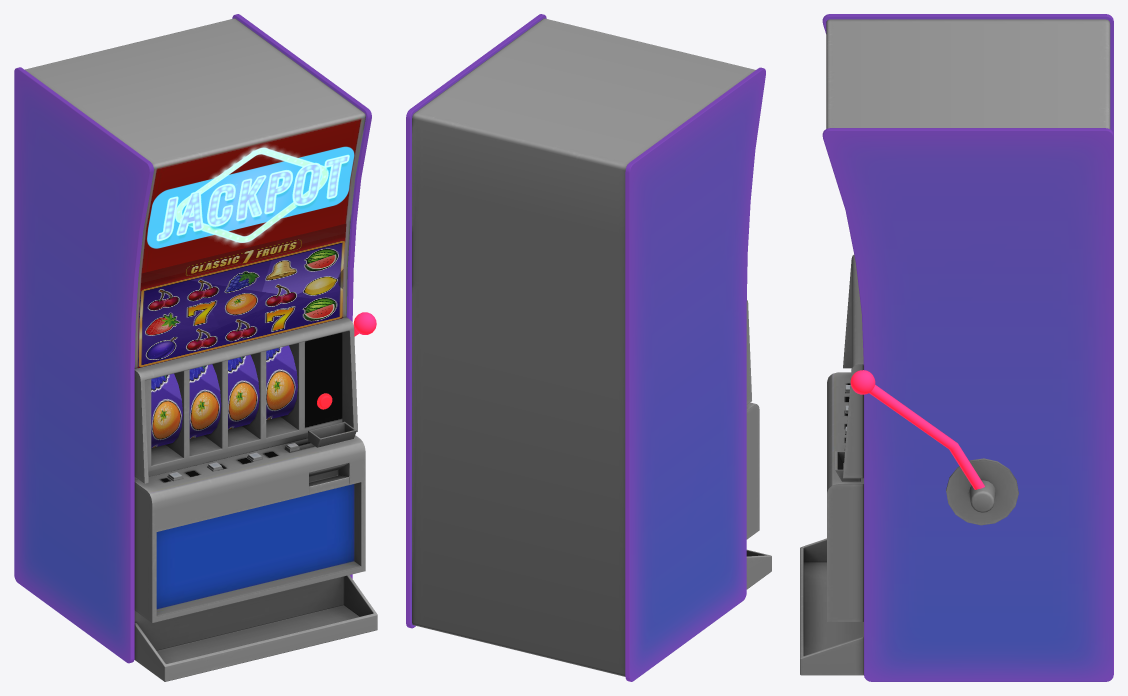
File: slot_machine.glb
3 renders of one model, left to right at view 1: azimuth 30°, elevation 25°; view 2: azimuth 150°, elevation 25°; view 3: azimuth 270°, elevation 25°, orthographic. The views are drawn at different scales.
Visible parts, largest first — view 1: polySurface98, polySurface99, polySurface85, polySurface94, polySurface92, polySurface77, polySurface90, polySurface79, polySurface95, polySurface75, polySurface97, polySurface96 (+1 smaller); view 2: polySurface99, polySurface98, polySurface79, polySurface85, polySurface77; view 3: polySurface79, polySurface99, polySurface85, polySurface88, polySurface90, polySurface77, polySurface98, polySurface73.
Boxes of the visible parts, left/top/right/bottom form: polySurface98: left=14, top=67, right=153, bottom=663; polySurface99: left=25, top=18, right=365, bottom=650; polySurface85: left=134, top=317, right=365, bottom=622; polySurface94: left=138, top=223, right=346, bottom=368; polySurface92: left=147, top=144, right=354, bottom=248; polySurface77: left=134, top=575, right=377, bottom=681; polySurface90: left=156, top=605, right=359, bottom=663; polySurface79: left=232, top=14, right=371, bottom=578; polySurface95: left=189, top=364, right=221, bottom=438; polySurface75: left=151, top=373, right=182, bottom=447; polySurface97: left=266, top=345, right=297, bottom=419; polySurface96: left=228, top=355, right=259, bottom=429; polySurface99: left=412, top=18, right=755, bottom=676; polySurface98: left=625, top=67, right=765, bottom=681; polySurface79: left=406, top=14, right=546, bottom=628; polySurface85: left=746, top=300, right=759, bottom=539; polySurface77: left=746, top=549, right=771, bottom=589; polySurface79: left=822, top=128, right=1113, bottom=681; polySurface99: left=826, top=19, right=1110, bottom=128; polySurface85: left=827, top=254, right=863, bottom=621; polySurface88: left=946, top=458, right=1018, bottom=525; polySurface90: left=803, top=562, right=863, bottom=655; polySurface77: left=800, top=538, right=863, bottom=675; polySurface98: left=822, top=14, right=1113, bottom=134; polySurface73: left=850, top=370, right=984, bottom=489.
Bounding box in the file's own units: 0.9095 × 1.83 × 0.9416.
Materials: 6 (4 with a texture image).
